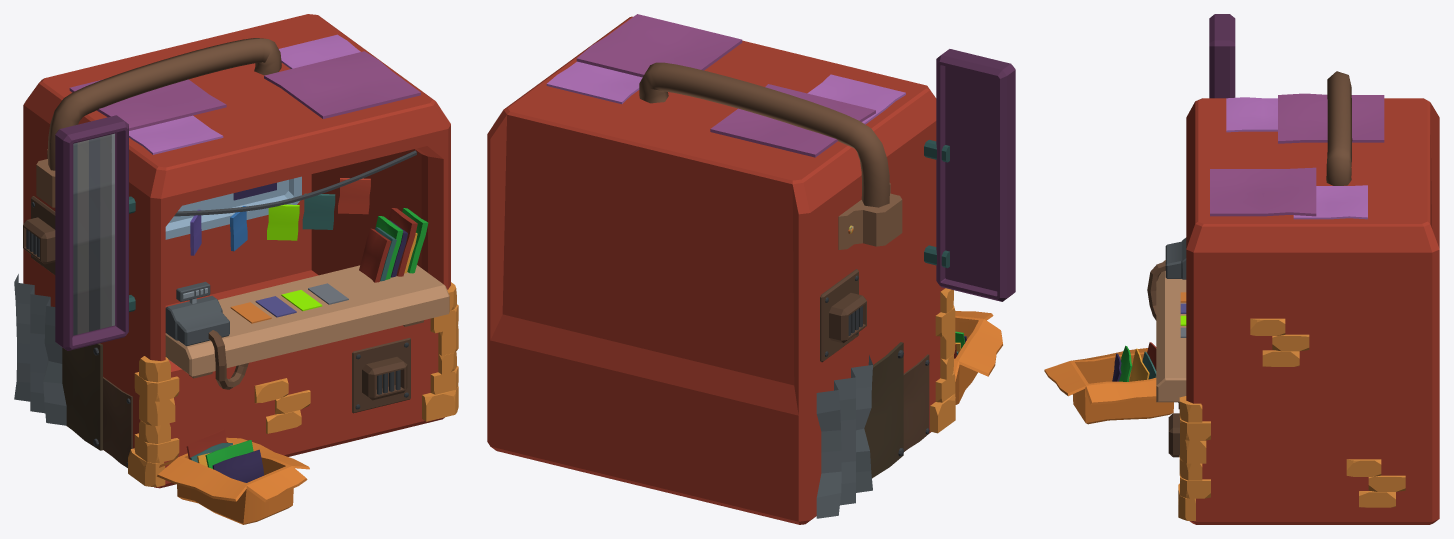
File: shop.fbx
3 views of the same model, side by side, from view 1: azimuth 30°, elevation 25°; view 2: azimuth 150°, elevation 25°; view 3: azimuth 270°, elevation 25° (orthographic). The views are drawn at different scales.
Parts seen in each view (by area): view 1: polySurface1463, polySurface1462; view 2: polySurface1463; view 3: polySurface1463.
Boxes of the visible parts, left/top/right/bottom form: polySurface1463: left=14, top=14, right=458, bottom=524; polySurface1462: left=73, top=133, right=114, bottom=335; polySurface1463: left=487, top=14, right=1015, bottom=524; polySurface1463: left=1044, top=14, right=1439, bottom=524.
Size of the model in its own units: 462 by 423 by 442.
